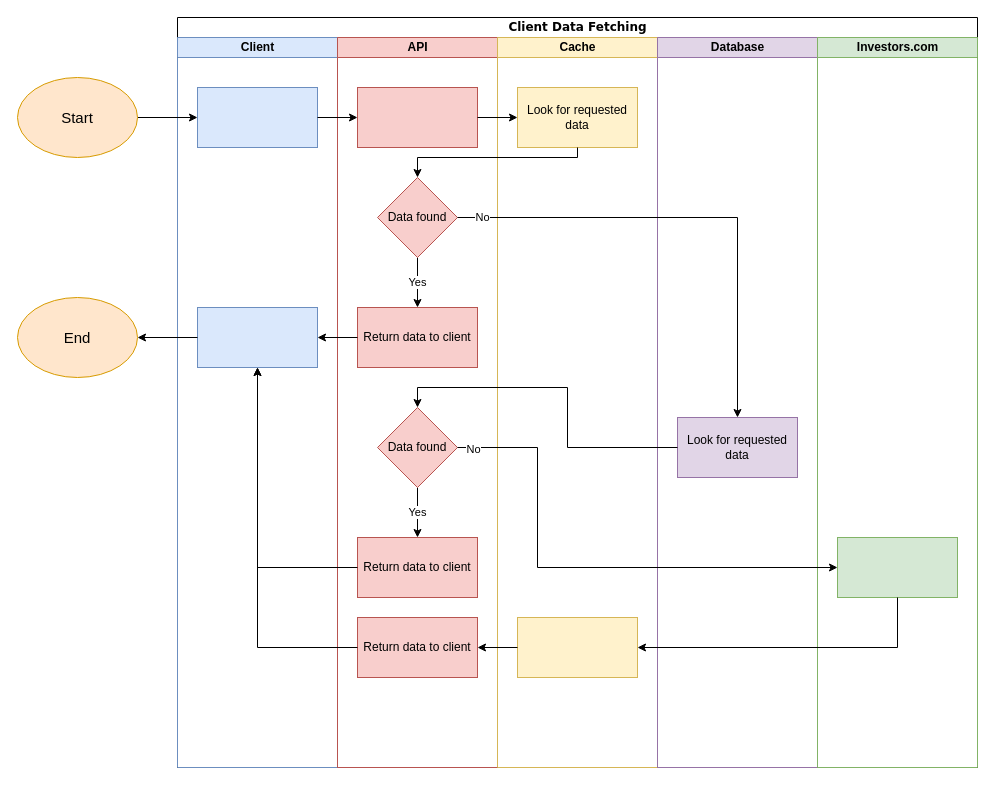
Some shapes in this 995 by 785 pixel diagram are drawn without their labels. The centre of each missing label's shape, as x and y in pixels:
Check if data exists in cache: point (417, 117)
Receive top composite stocks: point (257, 337)
Request top composite stocks: point (257, 117)
Scrape data: point (897, 567)
Store data: point (577, 647)
